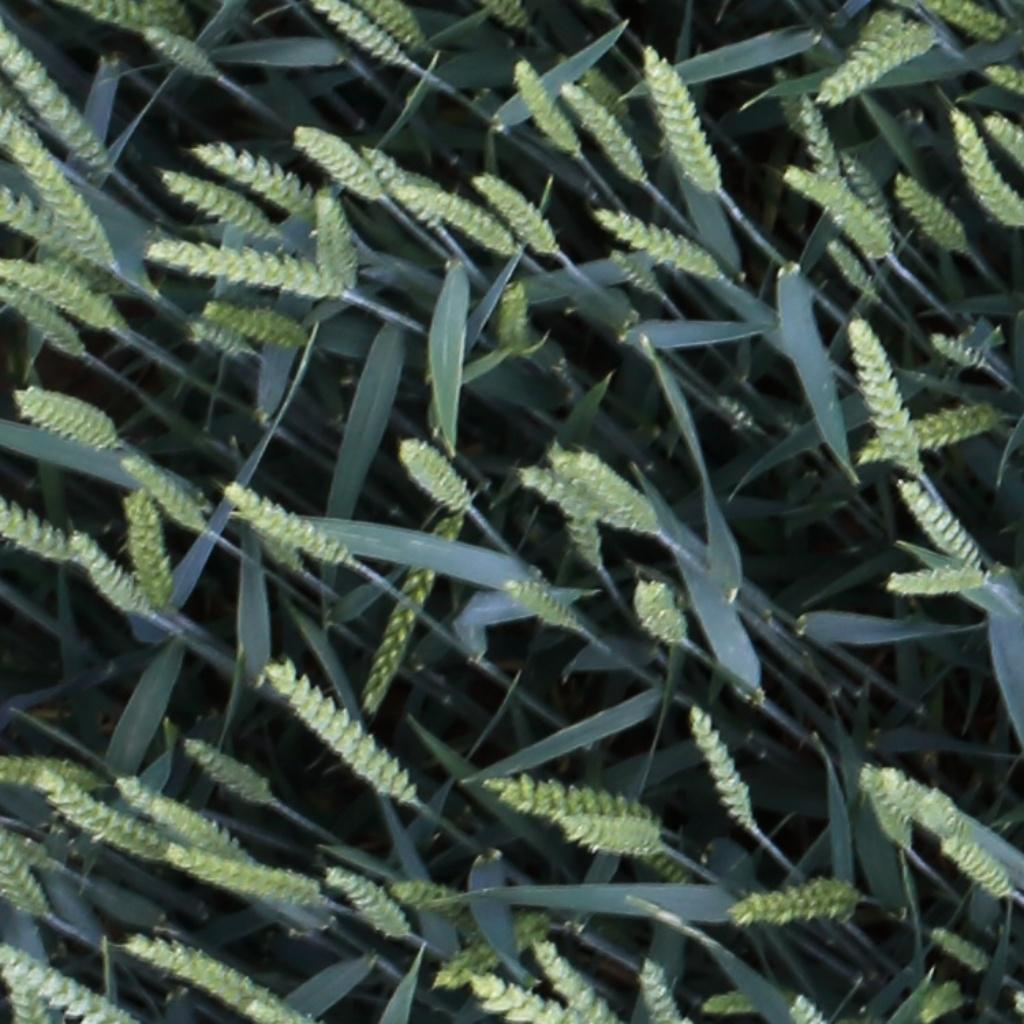0-0: (263, 666, 423, 807), (365, 513, 470, 721), (0, 114, 118, 276), (121, 932, 313, 1023), (0, 29, 101, 170), (141, 240, 338, 304), (637, 45, 720, 195), (35, 776, 172, 862), (845, 312, 917, 473), (117, 778, 245, 865), (782, 161, 891, 262), (222, 484, 349, 567), (948, 103, 1024, 237), (557, 73, 647, 185), (819, 16, 932, 103), (682, 701, 757, 831), (1, 253, 119, 334), (433, 911, 546, 992), (892, 473, 983, 572), (157, 166, 271, 244), (1, 943, 117, 1019), (591, 206, 718, 274), (855, 404, 994, 464), (1, 193, 100, 276), (469, 165, 559, 256), (189, 140, 308, 208), (487, 776, 653, 824), (162, 850, 308, 903), (506, 54, 580, 158), (723, 875, 864, 929), (360, 141, 445, 230), (12, 387, 119, 454), (562, 454, 655, 531), (65, 531, 148, 617), (124, 486, 176, 617), (536, 939, 616, 1024), (117, 453, 203, 531), (0, 278, 87, 355), (292, 122, 378, 199), (417, 185, 513, 251), (891, 172, 969, 252), (322, 865, 406, 939), (177, 740, 267, 805), (311, 188, 365, 294), (314, 0, 401, 65), (561, 813, 669, 865), (199, 302, 310, 352), (397, 436, 469, 512), (856, 765, 914, 854), (834, 144, 895, 228), (873, 768, 953, 832), (939, 836, 1014, 903), (791, 90, 842, 188), (517, 465, 606, 521), (0, 749, 108, 794), (821, 233, 880, 303), (70, 0, 188, 35), (140, 25, 214, 79), (508, 581, 583, 631), (0, 834, 45, 916), (633, 578, 684, 649), (471, 977, 559, 1018), (0, 512, 76, 559), (888, 563, 984, 600), (356, 0, 423, 47), (636, 958, 679, 1024), (932, 0, 1004, 38), (928, 928, 989, 972), (606, 244, 658, 294), (9, 972, 61, 1021), (391, 877, 463, 911), (985, 111, 1024, 169), (502, 283, 531, 360), (927, 330, 987, 367), (984, 62, 1024, 111), (187, 320, 244, 354), (257, 535, 301, 575), (486, 0, 529, 32), (783, 989, 821, 1023)
